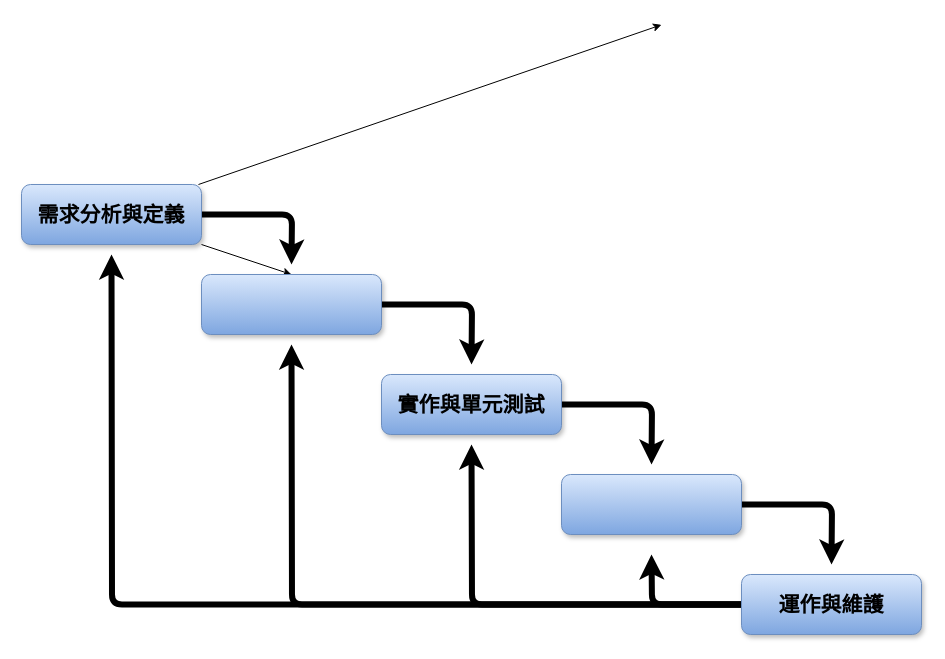
Image size: 945x659. Some labels were removed from this diagram. Here are the shapes that lost their labels. From the top down, the centre of each, then its label:
At (292,306): "系統與軟體設計".
At (652,506): "整合與系統測試".
